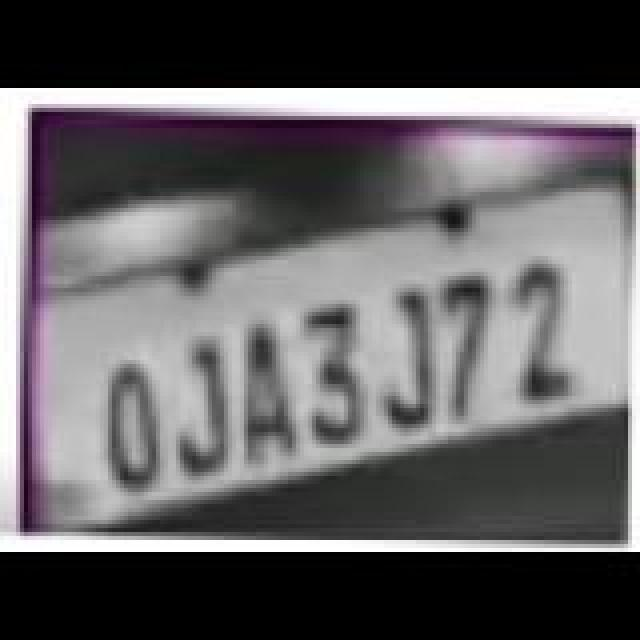2: (508, 260, 572, 404)
3: (304, 304, 368, 448)
7: (444, 274, 500, 422)
A: (236, 324, 300, 468)
J: (174, 336, 234, 480), (380, 288, 436, 432)
O: (106, 362, 166, 494)
